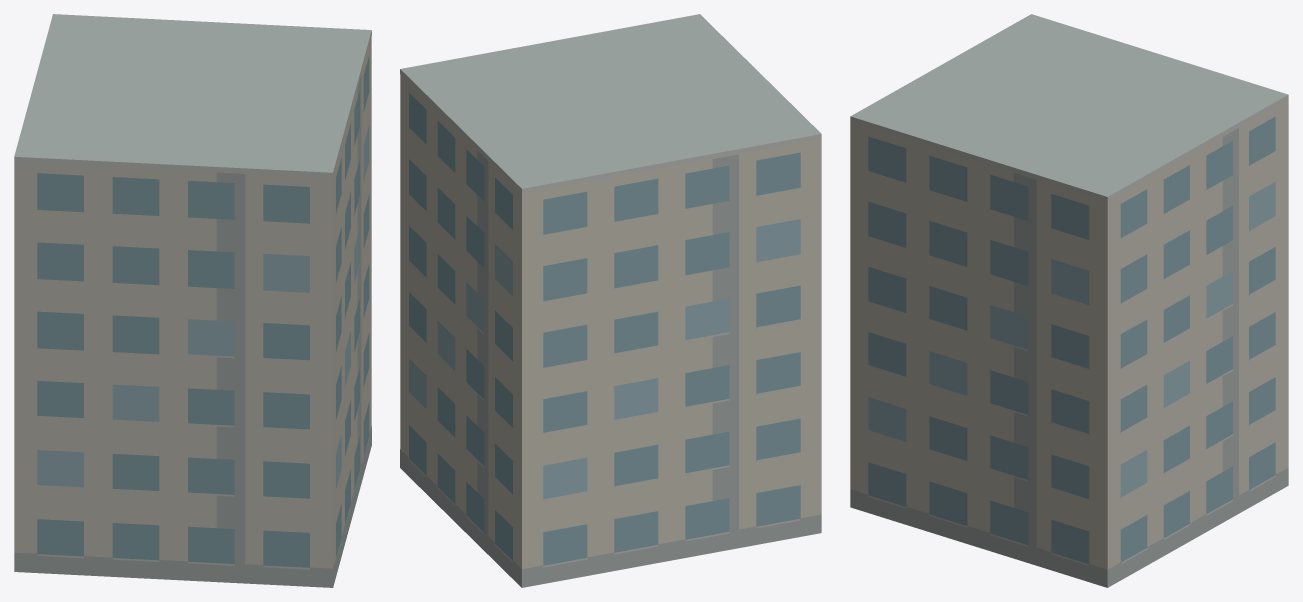
File: survey-upis-33010011.glb
The picture shows the model from 3 angles, left to right: view 1: azimuth 30°, elevation 25°; view 2: azimuth 150°, elevation 25°; view 3: azimuth 270°, elevation 25°; orthographic projection. The views are drawn at different scales.
Visible parts, largest first — view 1: survey-upis-33010011.tmp; view 2: survey-upis-33010011.tmp; view 3: survey-upis-33010011.tmp.
Part boxes in pixels (x1=…): survey-upis-33010011.tmp: x1=14, y1=14, x2=371, y2=587; survey-upis-33010011.tmp: x1=400, y1=14, x2=821, y2=587; survey-upis-33010011.tmp: x1=850, y1=14, x2=1288, y2=587.
Bounding box in the file's own units: 18.37 × 18.3 × 18.6.
